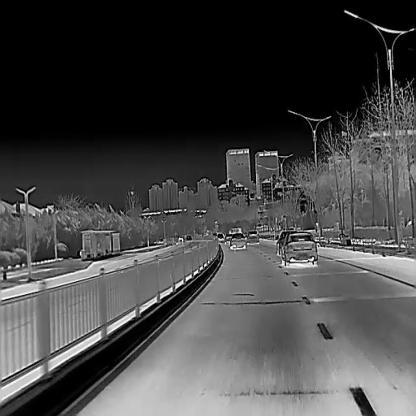car: (279, 231, 318, 264), (274, 230, 298, 253), (229, 232, 247, 250), (246, 229, 259, 245), (224, 233, 233, 244), (218, 233, 224, 242)
